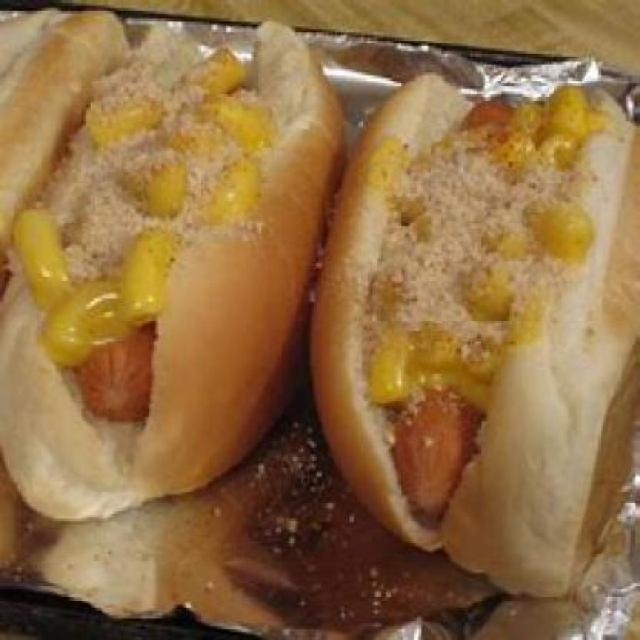hot dog: (370, 390, 484, 512), (75, 326, 156, 420), (462, 86, 510, 126)
macaroni and cheese: (53, 30, 256, 312), (368, 129, 570, 388)
